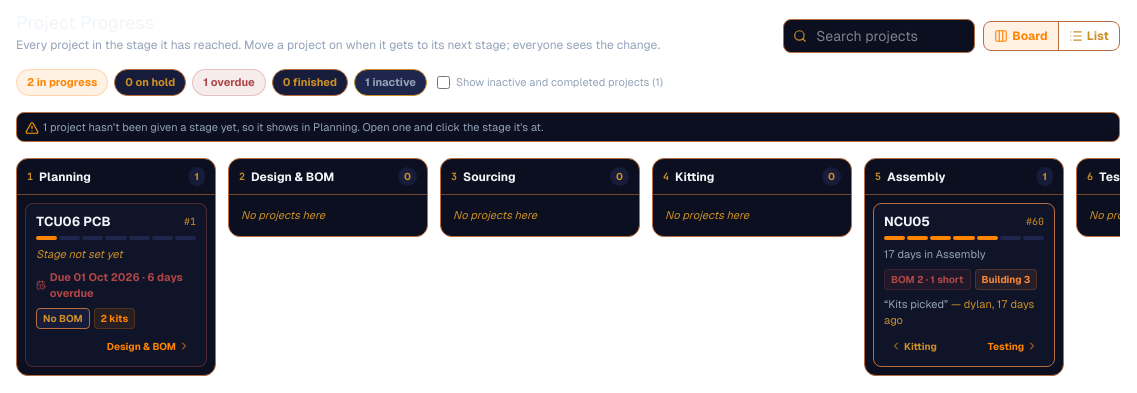
Test case: ProjectProgressView › counts the projects and filters on a count
The width and height of the screenshot is (1137, 393).
Expected: the button "2 in progress" is shown, [16, 69, 108, 96]
Expected: the button "0 on hold" is shown, [114, 69, 186, 96]
Click the button "1 overdue": x=229, y=82 [192, 69, 266, 96]
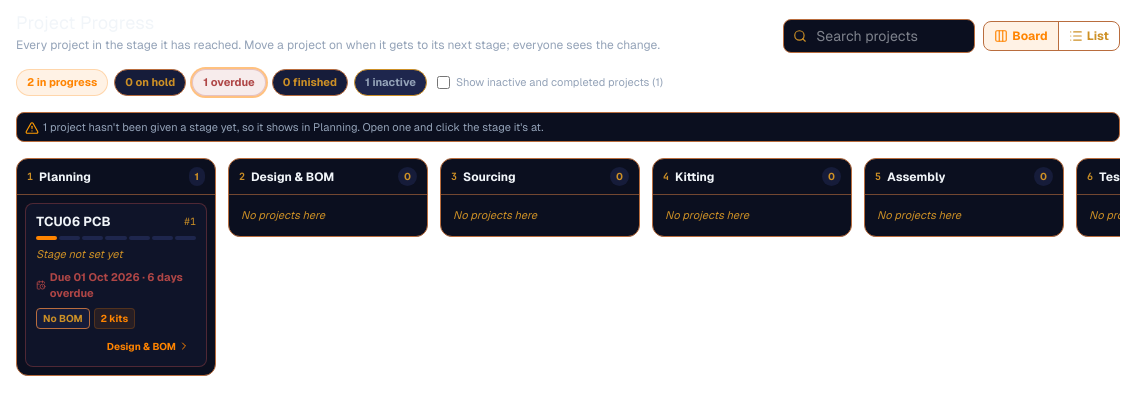
Expected: the element with test id "project-card-1" is shown, [25, 203, 207, 367]
Now the element with test id "project-card-60" is gone
Click the button "1 overdue": x=229, y=82 [192, 69, 266, 96]
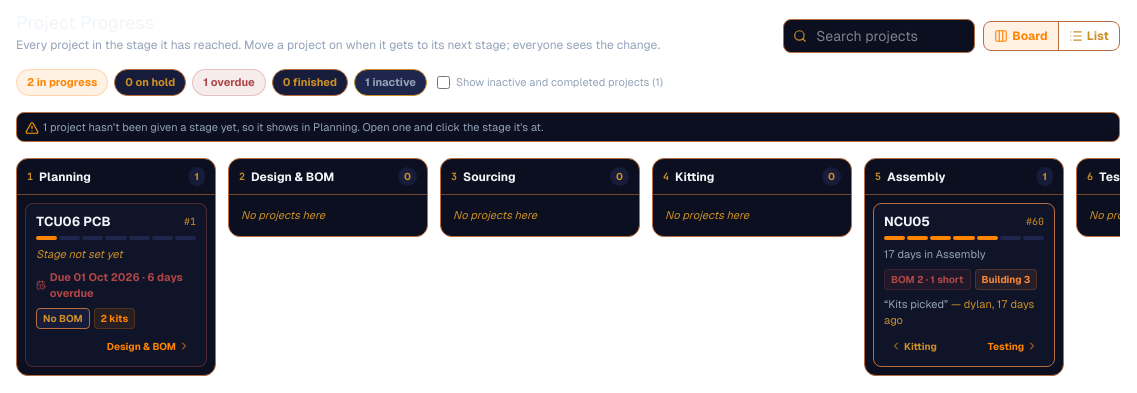
Now the element with test id "project-card-60" is shown, box [873, 203, 1055, 367]
